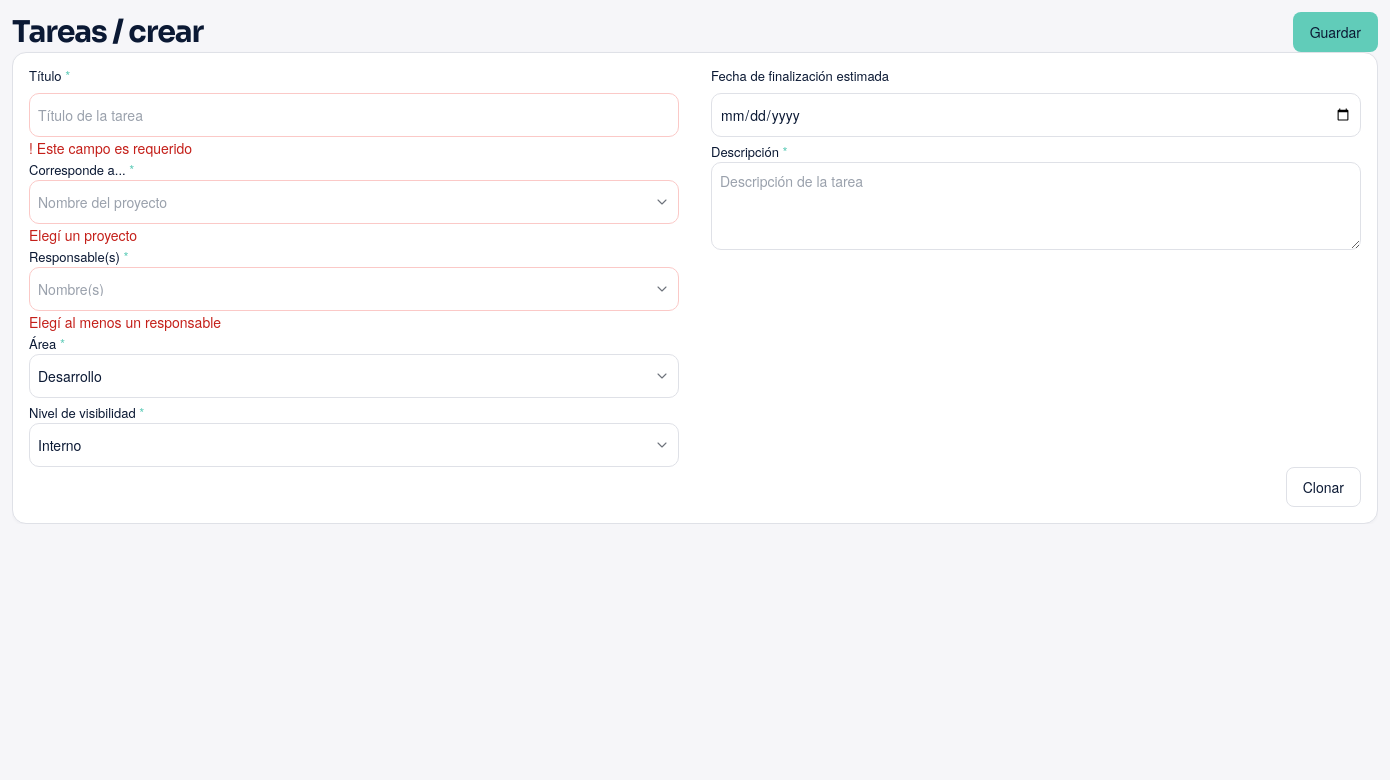
Test: Objectives new/page — campo Requisito (AC-7, AC-9, AC-10) › cambiar de proyecto limpia la selección de Requisito
Click the dropdown named "Corresponde a..." at {"x": 102, "y": 202}, box [29,180,679,224]
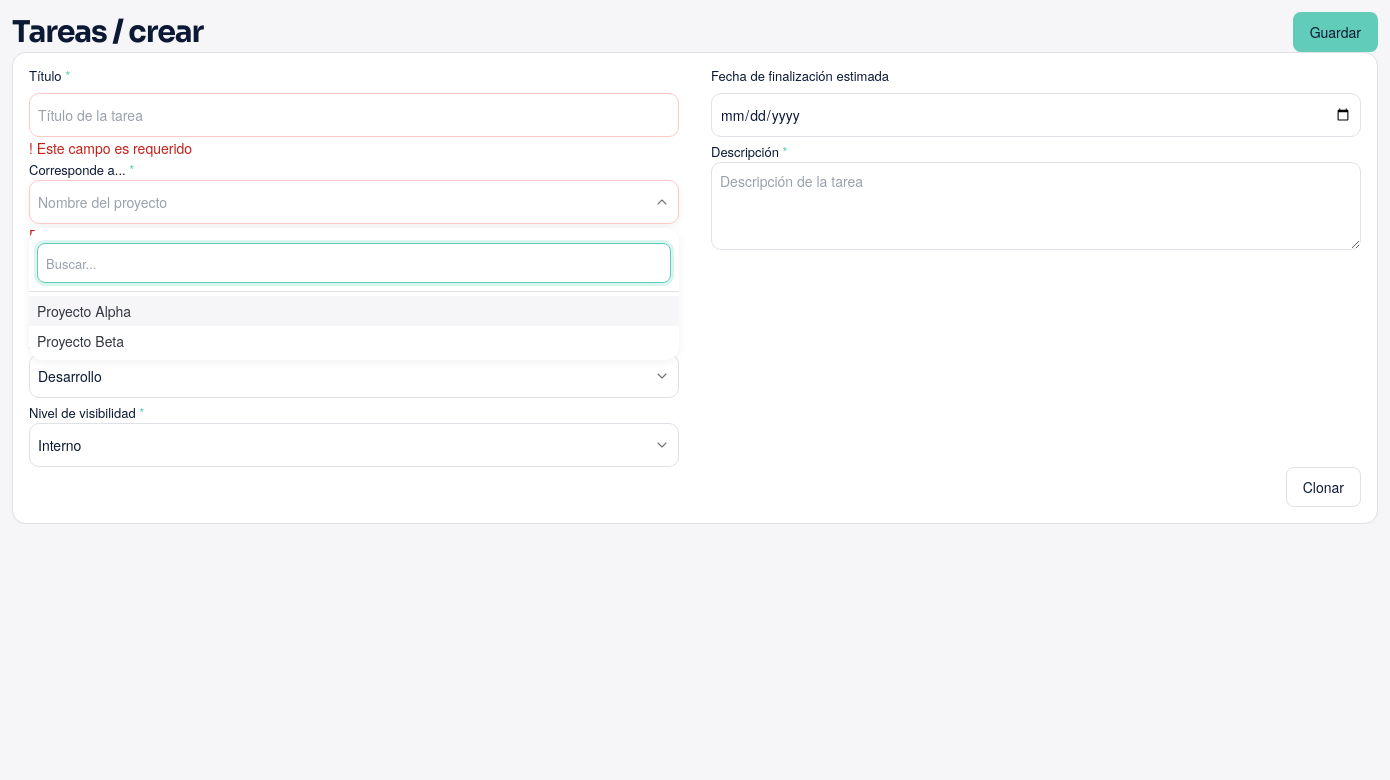
Click the option "Proyecto Alpha" at {"x": 84, "y": 311}, box [29,296,679,326]
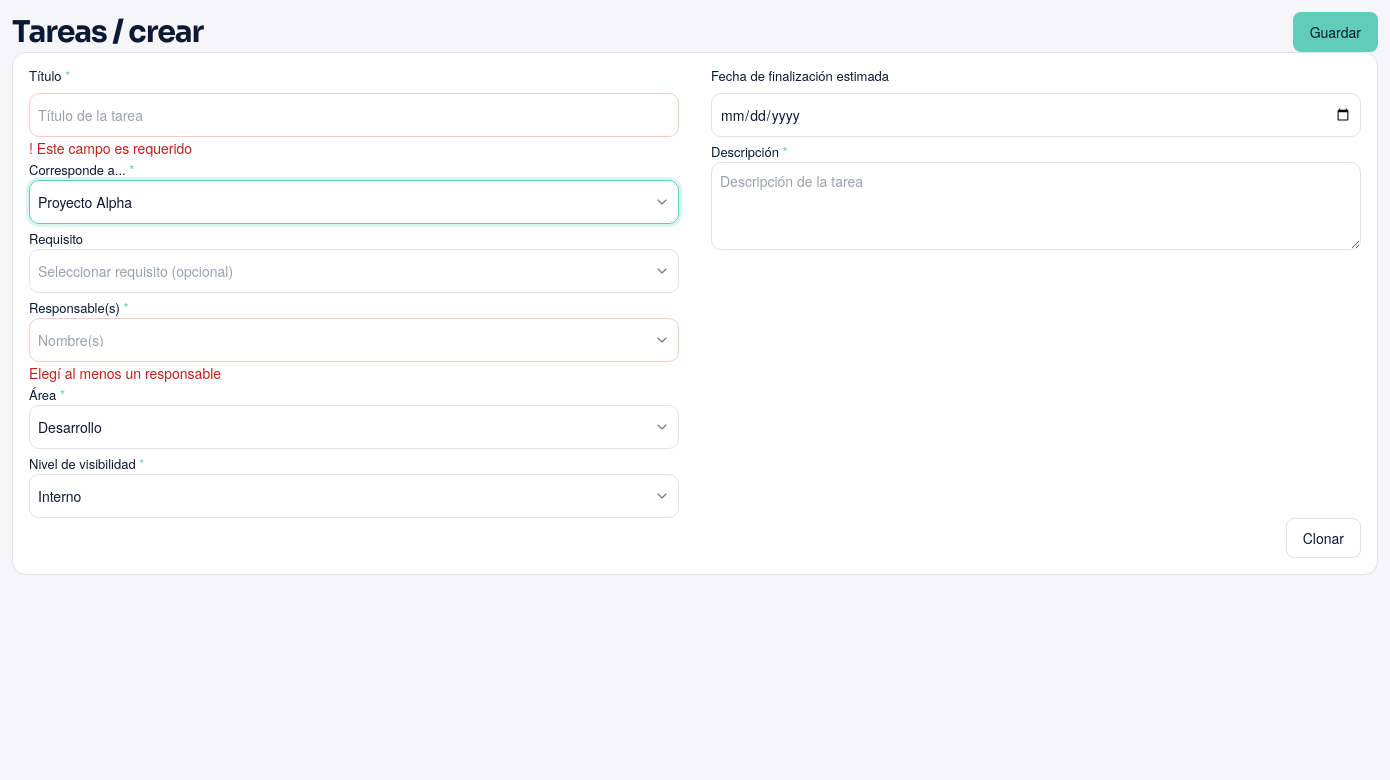
Click the dropdown labelled "requisito" at {"x": 136, "y": 271}, box [29,249,679,293]
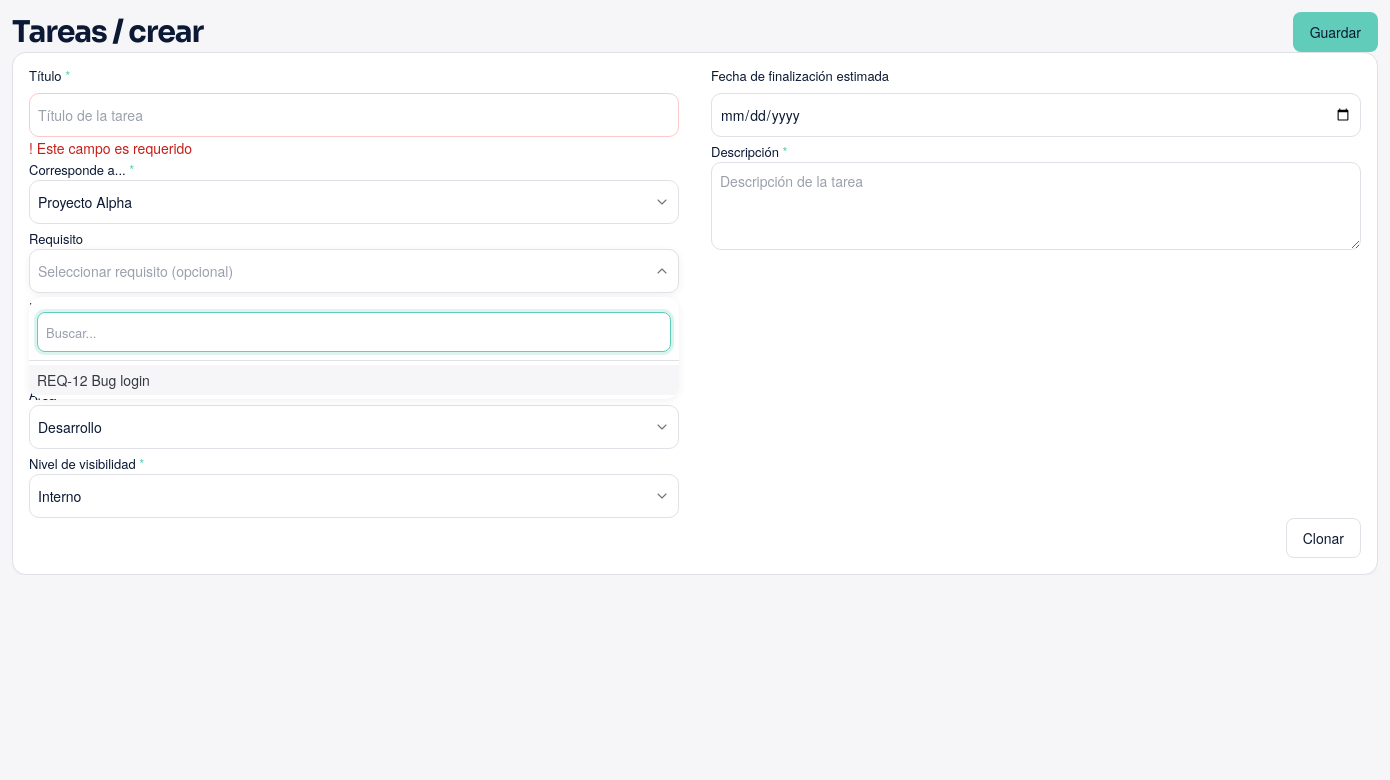
Click the option "REQ-12 Bug login" at {"x": 93, "y": 380}, box [29,365,679,395]
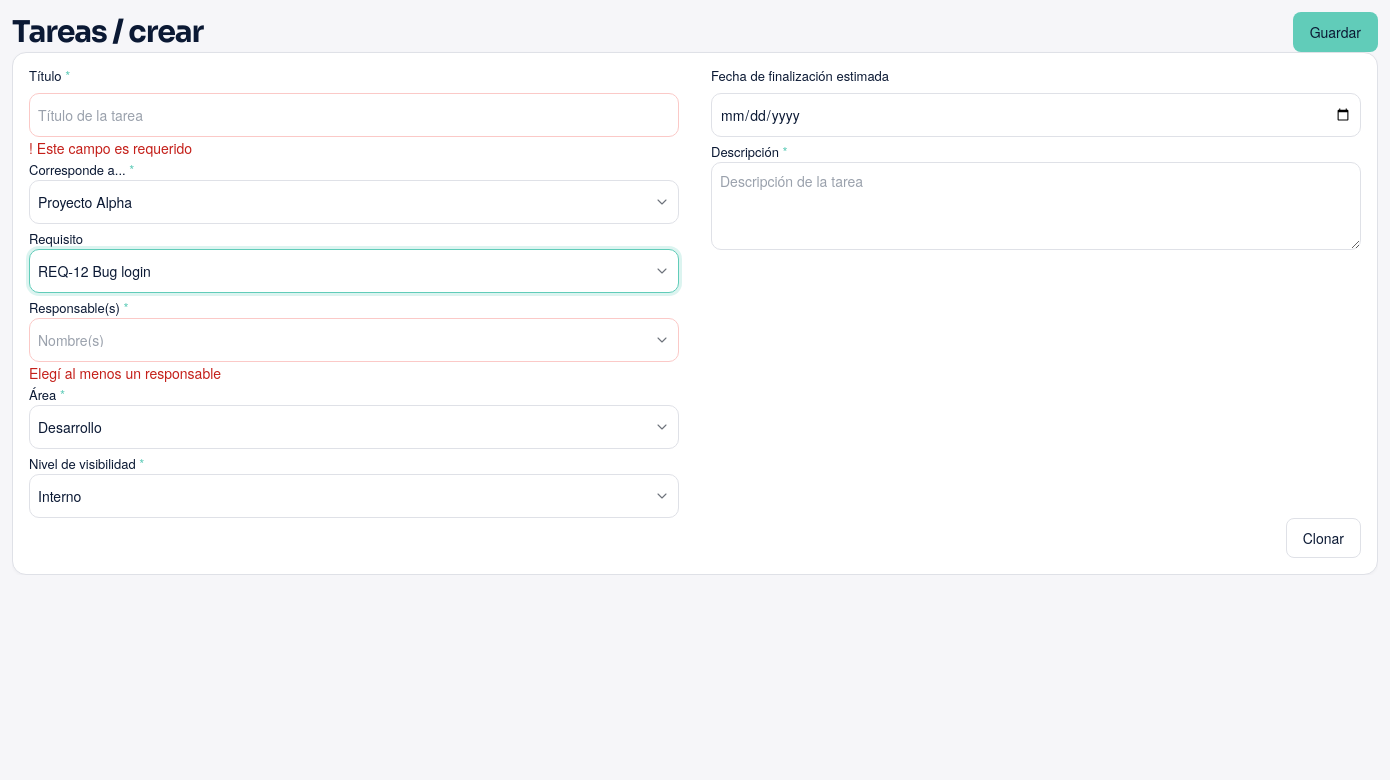
expect the dropdown named "Requisito" reads "REQ-12 Bug login": met, box [29,249,679,293]
Click the dropdown named "Corresponde a..." at {"x": 85, "y": 202}, box [29,180,679,224]
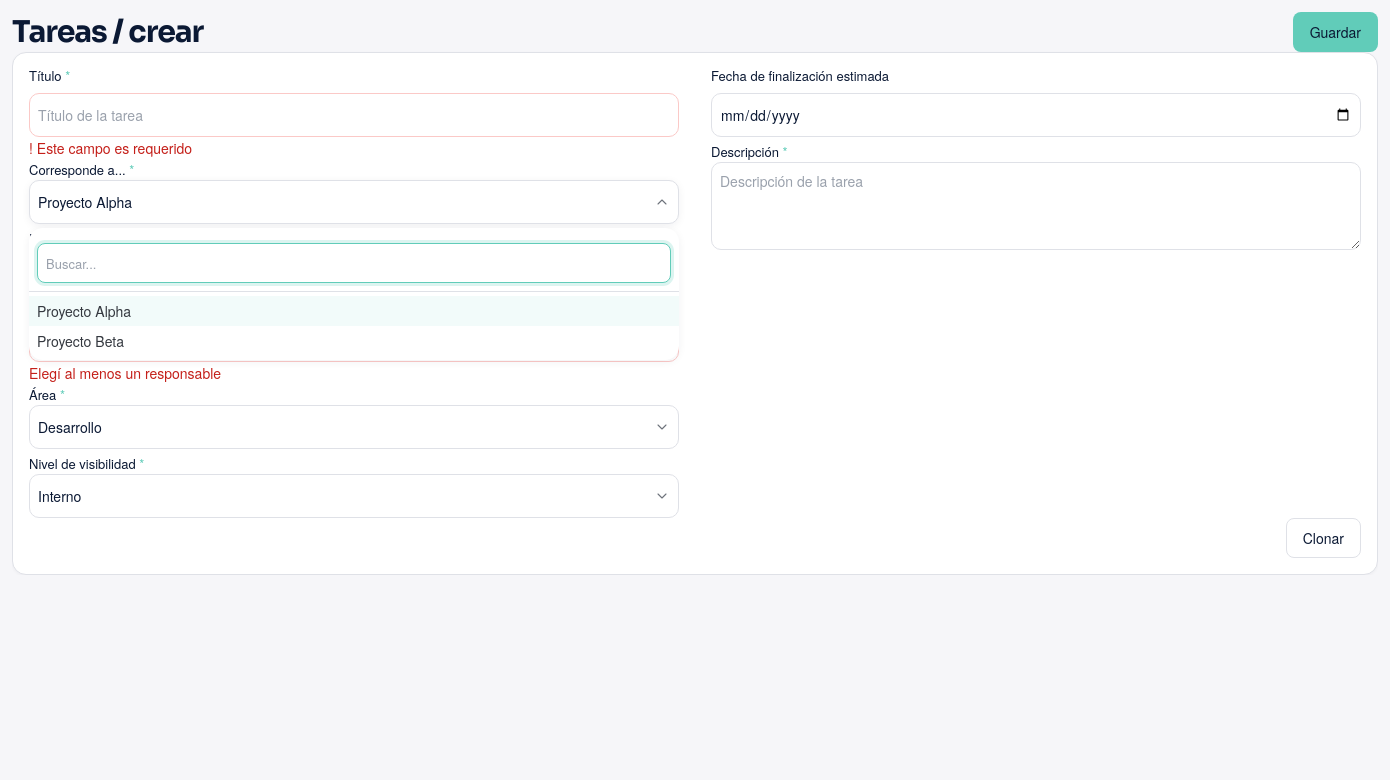
Click the option "Proyecto Beta" at {"x": 80, "y": 341}, box [37,331,124,351]
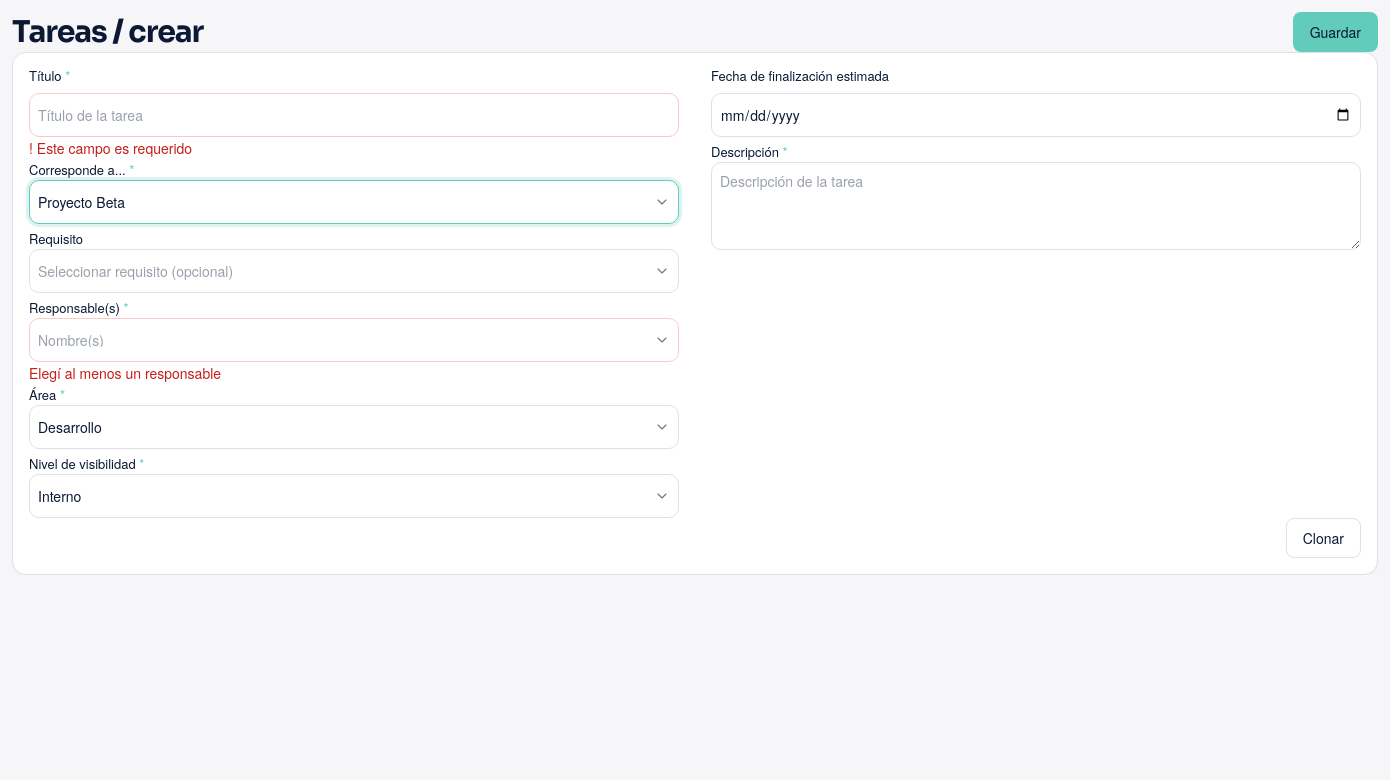
expect the dropdown labelled "requisito" no longer shows "REQ-12 Bug login": met, box [29,249,679,293]
